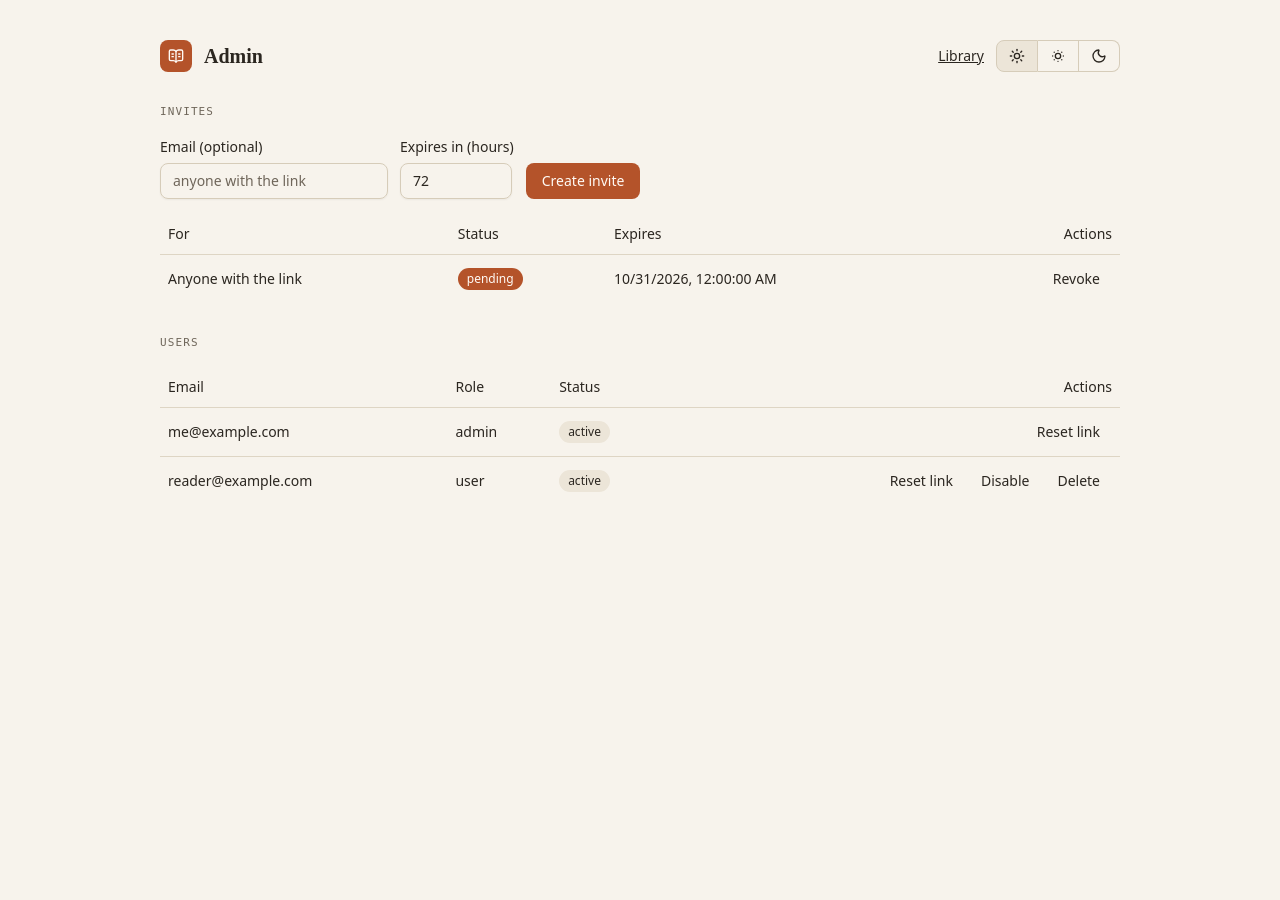
AdminPage › creates an invite and shows the link once
In the field labelled "Email (optional)": [274, 180] box [160,162,388,198], type "new@example.com"
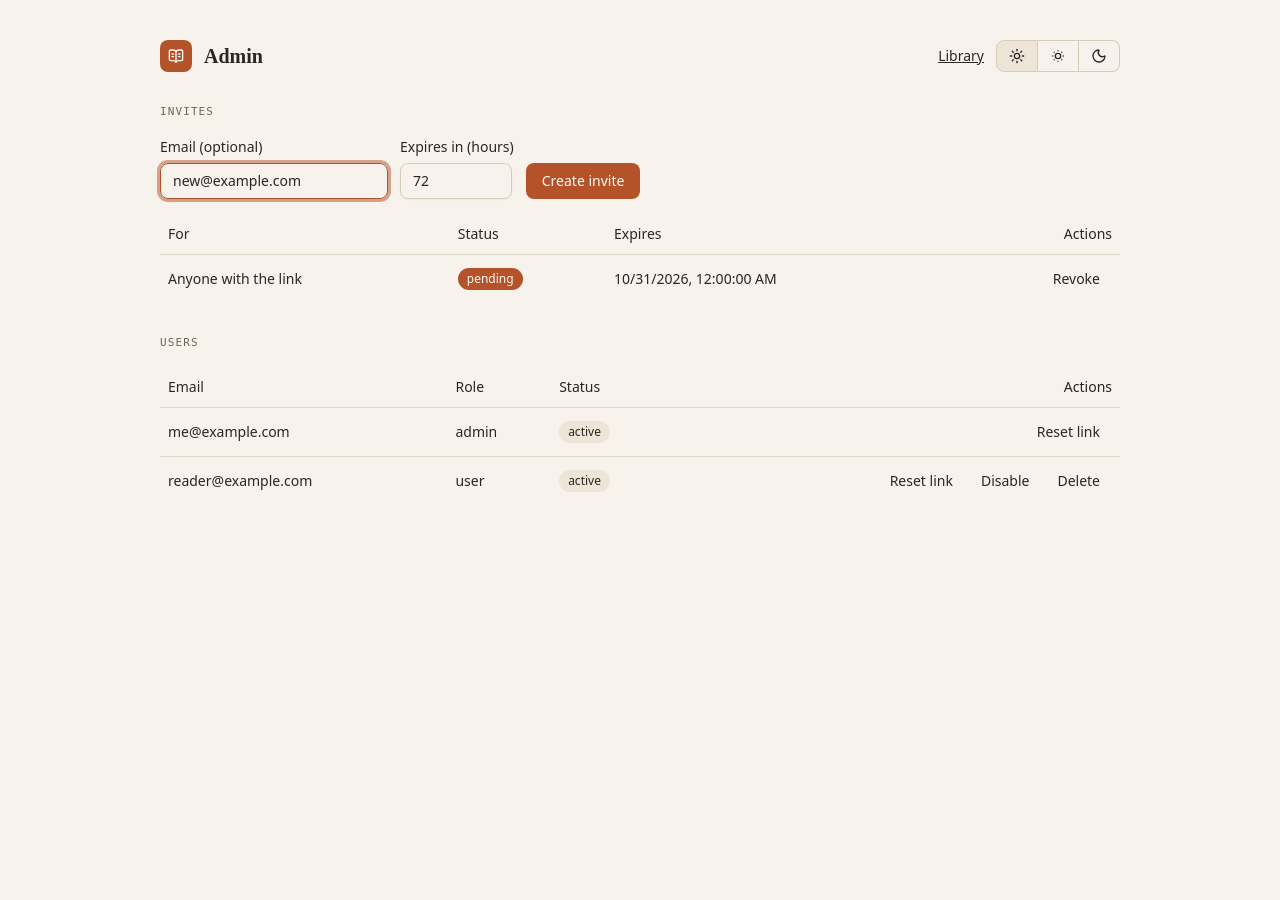
Click the button "Create invite": [583, 180] box [526,162,640,198]
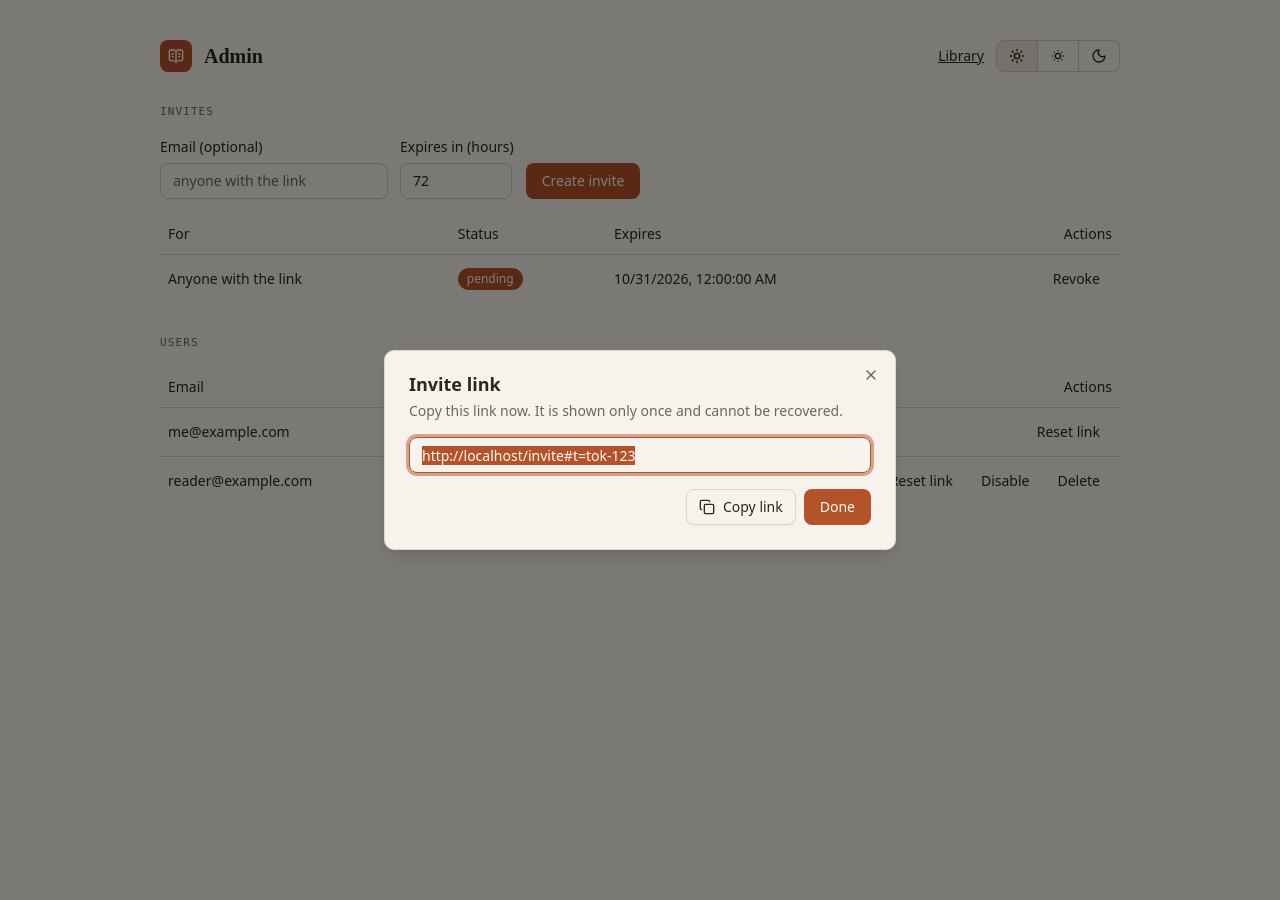
Click the button "Done": [837, 507] box [804,489,871,525]
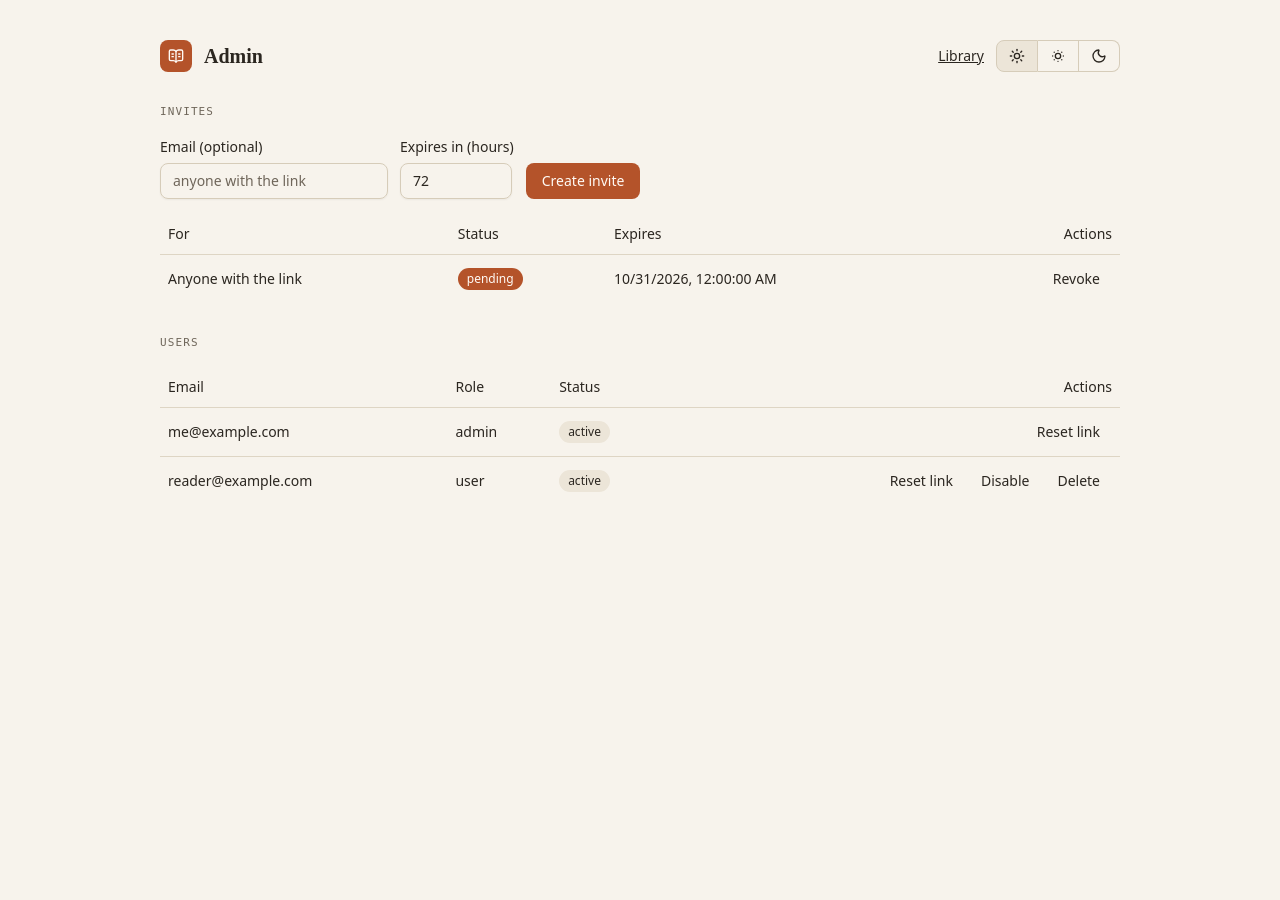
Expected: the dialog is gone
